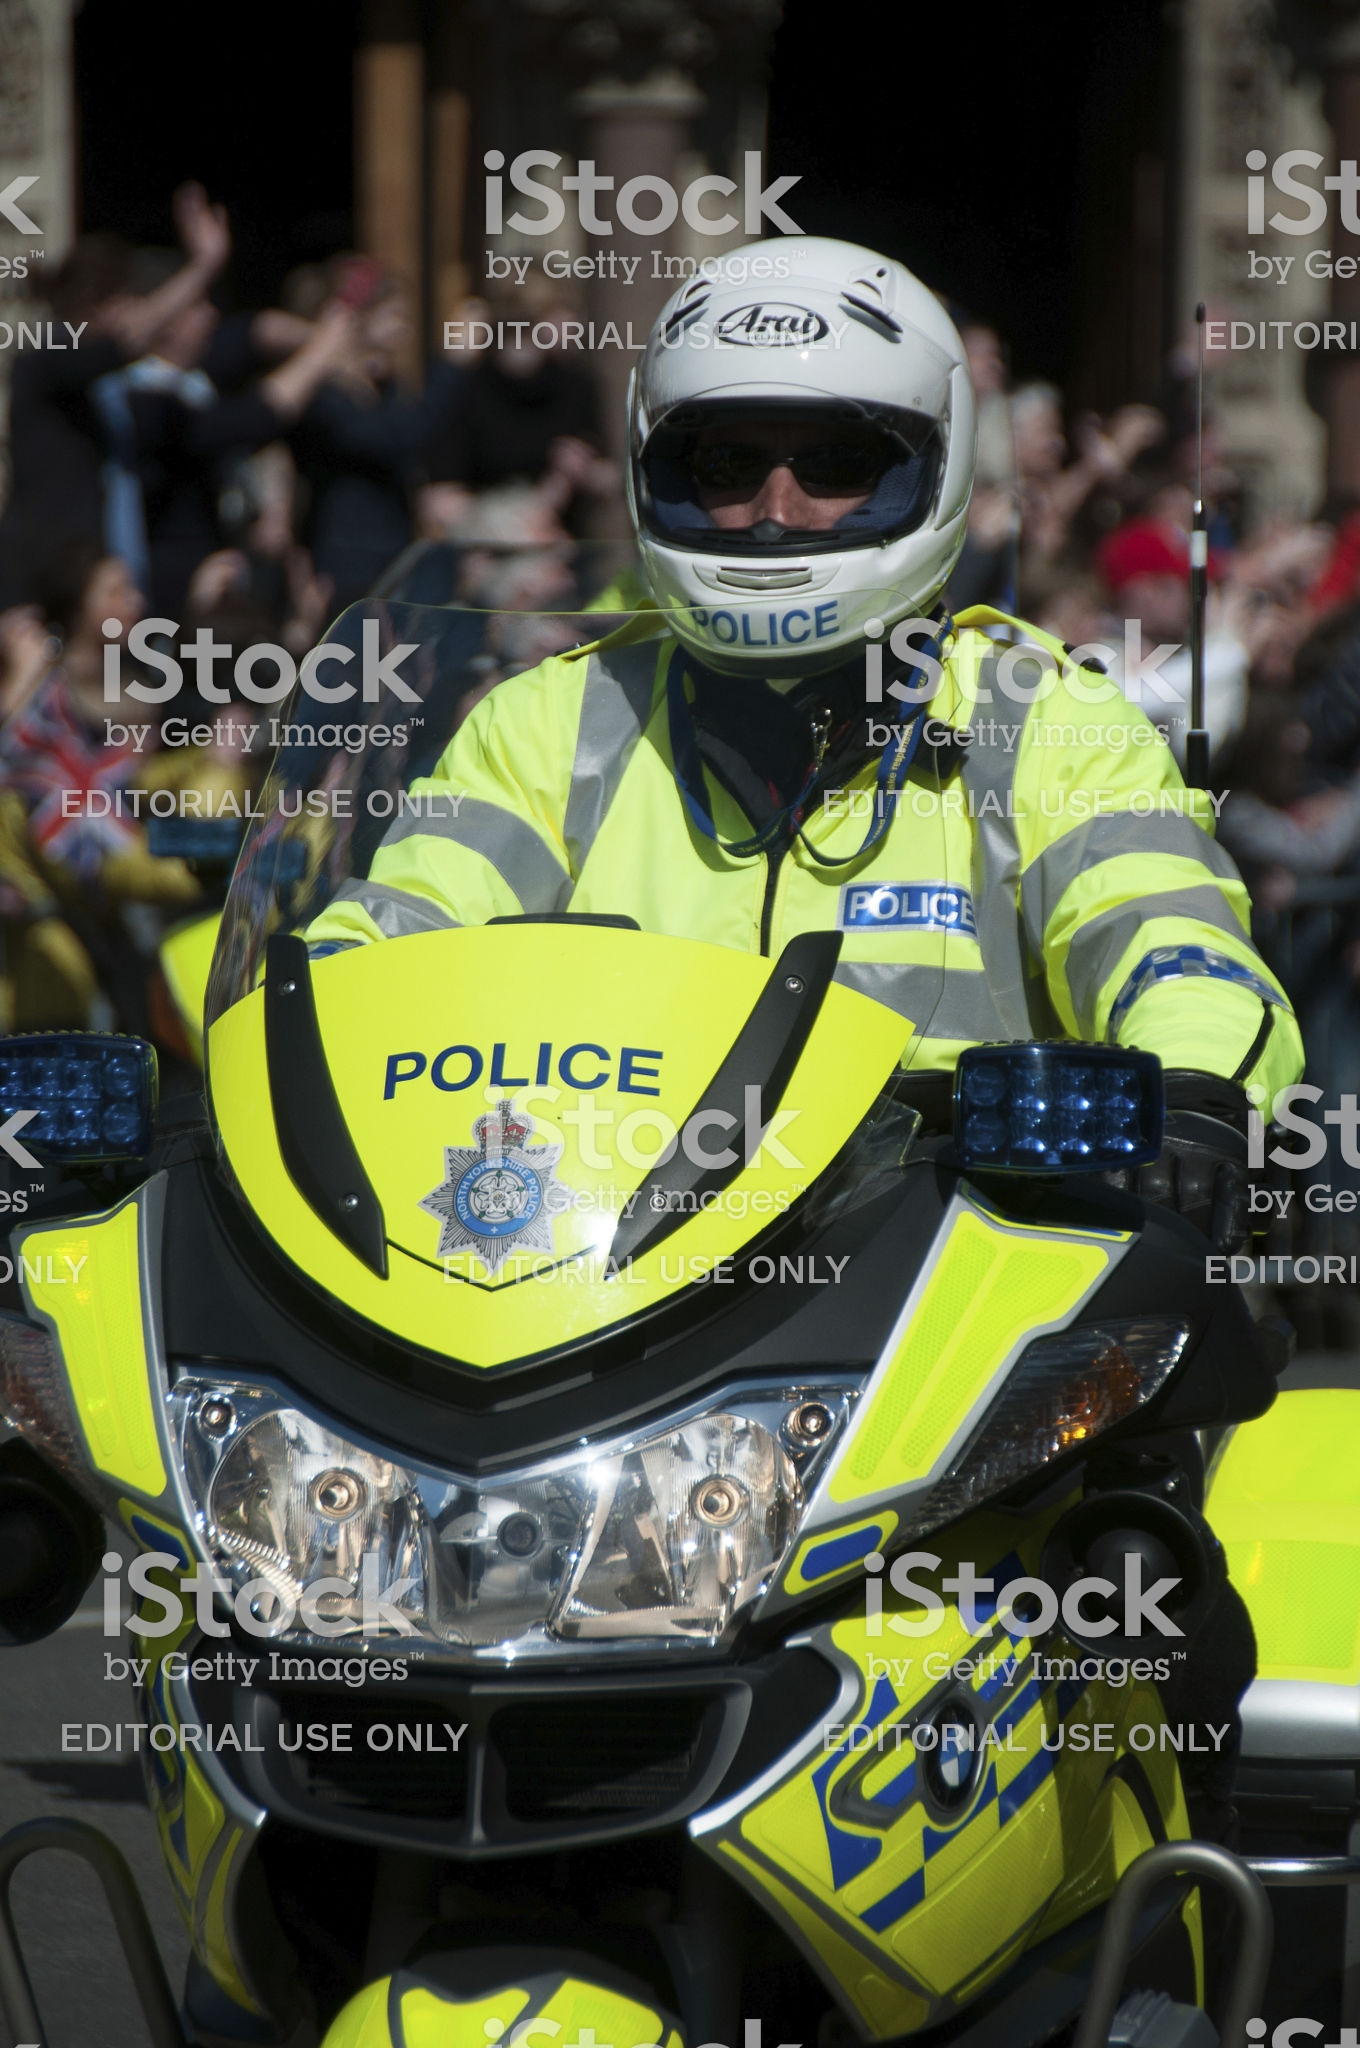helmet: (571, 244, 1006, 666)
